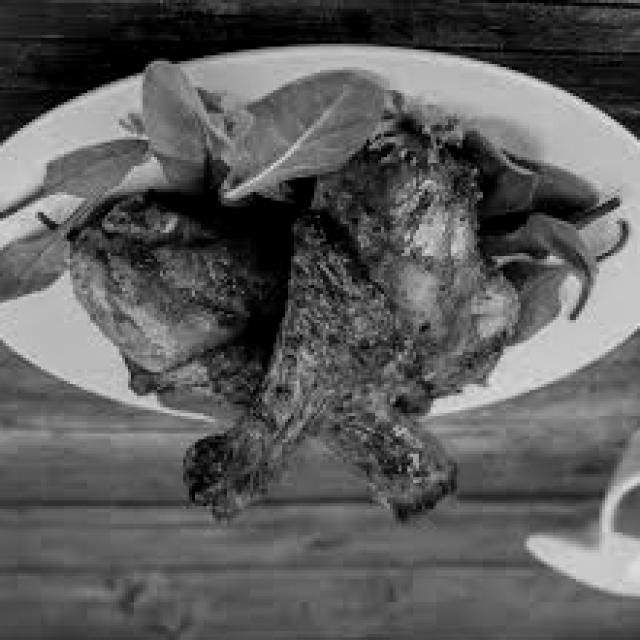ayam_goreng: (78, 161, 510, 537), (172, 192, 508, 532), (93, 224, 446, 528)
